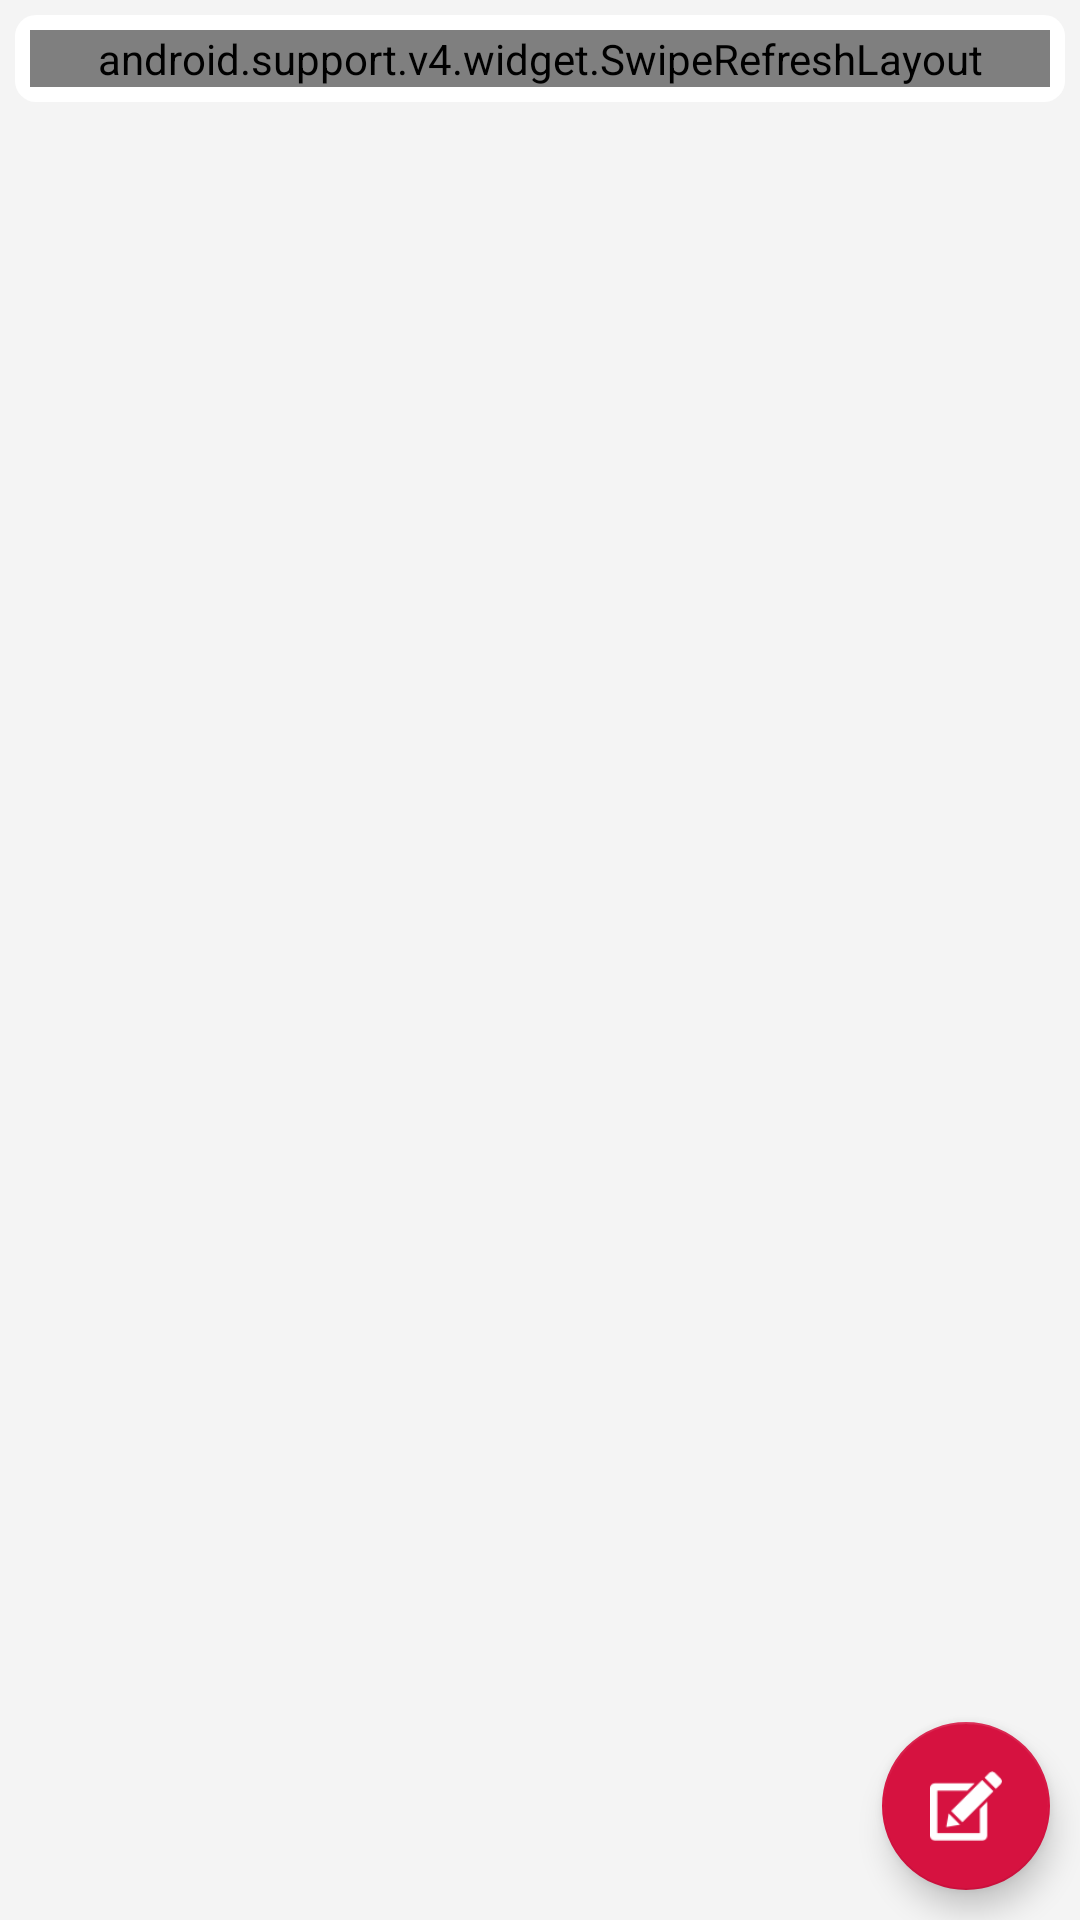

Screen size 1080w x 1920h. Icon name, then its box in pixels as (x1, y1, x2, y2):
tulis: (882, 1722, 1050, 1890)
